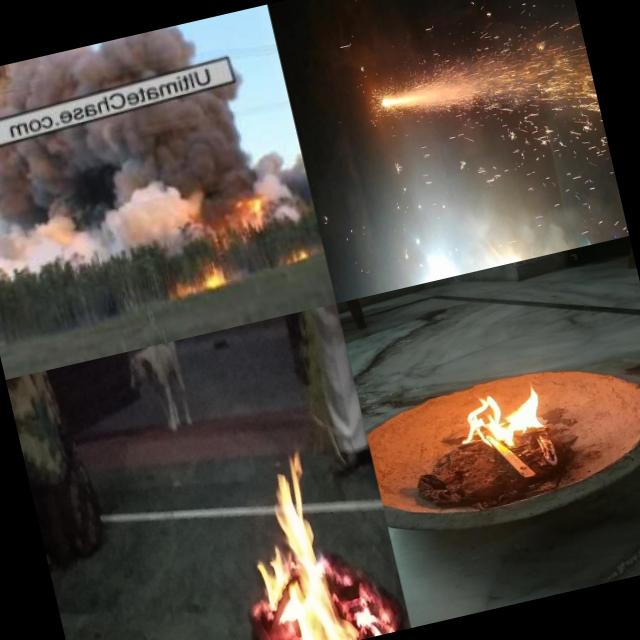fire: (219, 440, 395, 640), (446, 372, 552, 458), (163, 246, 238, 306), (539, 202, 581, 254), (234, 180, 276, 229), (274, 234, 319, 270)
smoke: (0, 100, 243, 292)
